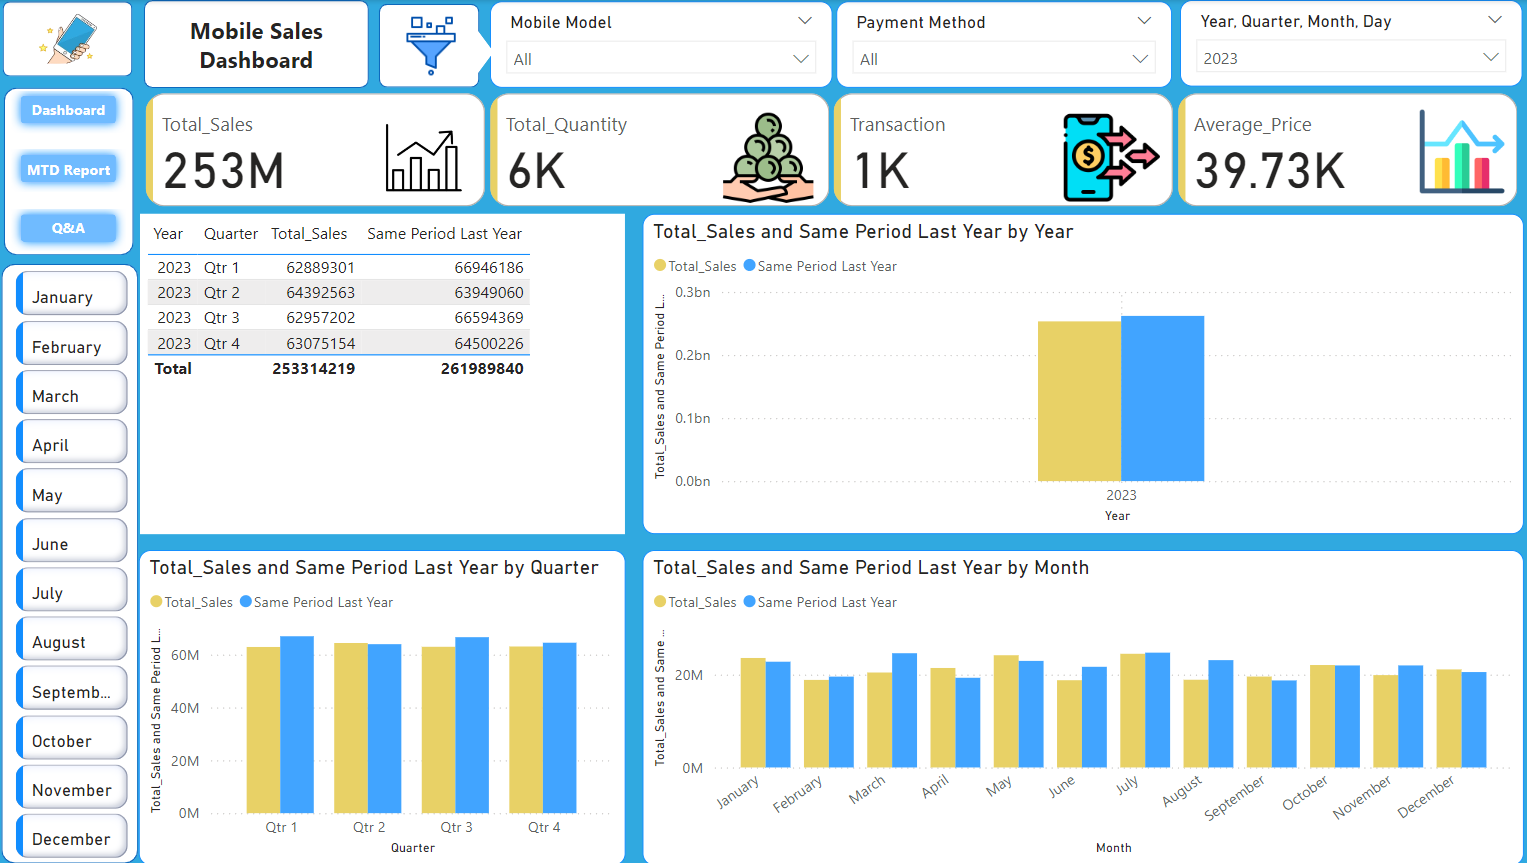

The dashboard page shown, as its layout file describes it:
{"tool":"powerbi","page":{"name":"Same Period Last Year","canvas":[1280,720],"ordinal":2},"visuals":[{"type":"shape","box":[2.3,1.2,108.1,62.8],"z":0},{"type":"image","box":[25.6,1.2,61.6,61.6],"z":1000},{"type":"shape","box":[3.5,73.3,108.1,139.5],"z":2000},{"type":"cardVisual","fields":{"Data":["Sales_Data.Total_Sales","Sales_Data.Total_Quantity","Sales_Data.Transaction","Sales_Data.Average_Price"]},"box":[116.3,73.3,1150,104.7],"z":3000},{"type":"slicer","fields":{"Values":["Sales_Data.Mobile Model"]},"box":[407,1.2,284.9,72.1],"z":4000},{"type":"slicer","fields":{"Values":["Sales_Data.Payment Method"]},"box":[695.4,1.2,279.1,72.1],"z":5000},{"type":"slicer","fields":{"Values":["Custom_Calender.Date.Variation.Date Hierarchy.Year","Custom_Calender.Date.Variation.Date Hierarchy.Quarter","Custom_Calender.Date.Variation.Date Hierarchy.Month","Custom_Calender.Date.Variation.Date Hierarchy.Day"]},"box":[981.4,0,284.9,72.1],"z":6000},{"type":"shape","box":[315.1,3.5,83.7,69.8],"z":7000},{"type":"image","box":[327.9,8.1,60.5,60.5],"z":8000},{"type":"shape","box":[380.2,23.3,30.2,40.7],"z":9000},{"type":"shape","box":[119.8,0,187.2,73.3],"z":10000},{"type":"textbox","box":[133.7,7,158.1,60.5],"z":11000},{"type":"shape","box":[1.2,219.8,114,498.8],"z":12000},{"type":"advancedSlicerVisual","fields":{"Values":["Custom_Calender.Date.Variation.Date Hierarchy.Month"]},"box":[8.4,220,103.5,498.8],"z":13000},{"type":"tableEx","fields":{"Values":["Custom_Calender.Date.Variation.Date Hierarchy.Year","Custom_Calender.Date.Variation.Date Hierarchy.Quarter","Sales_Data.Total_Sales","Sales_Data.Same Period Last Year"]},"box":[116.3,177.9,403.5,266.3],"z":14000},{"type":"clusteredColumnChart","fields":{"Category":["Custom_Calender.Date.Variation.Date Hierarchy.Year","Custom_Calender.Date.Variation.Date Hierarchy.Quarter"],"Y":["Sales_Data.Total_Sales","Sales_Data.Same Period Last Year"]},"box":[533.7,177.9,732.6,266.3],"z":15000},{"type":"clusteredColumnChart","fields":{"Y":["Sales_Data.Total_Sales","Sales_Data.Same Period Last Year"],"Category":["Custom_Calender.Date.Variation.Date Hierarchy.Year","Custom_Calender.Date.Variation.Date Hierarchy.Month","Custom_Calender.Date.Variation.Date Hierarchy.Day"]},"box":[533.7,457,732.6,262.8],"z":16000},{"type":"clusteredColumnChart","fields":{"Category":["Custom_Calender.Date.Variation.Date Hierarchy.Year","Custom_Calender.Date.Variation.Date Hierarchy.Quarter"],"Y":["Sales_Data.Total_Sales","Sales_Data.Same Period Last Year"]},"box":[115.1,457,404.7,262.8],"z":17000},{"type":"pageNavigator","box":[9.3,72.1,95.3,138.4],"z":18000}]}

Visuals, with their boxes in screenshot pixels (x1, y1, x2, y2), scaled from the page's 1280x720 canvas onto the 1527x863 screenshot:
shape: <box>3,1,132,77</box>
image: <box>31,1,104,75</box>
shape: <box>4,88,133,255</box>
cardVisual - Sales_Data.Total_Sales x Sales_Data.Total_Quantity: <box>139,88,1511,213</box>
slicer - Sales_Data.Mobile Model: <box>486,1,825,88</box>
slicer - Sales_Data.Payment Method: <box>830,1,1163,88</box>
slicer - Custom_Calender.Date.Variation.Date Hierarchy.Year x Custom_Calender.Date.Variation.Date Hierarchy.Quarter: <box>1171,0,1511,86</box>
shape: <box>376,4,476,88</box>
image: <box>391,10,463,82</box>
shape: <box>454,28,490,77</box>
shape: <box>143,0,366,88</box>
textbox: <box>159,8,348,81</box>
shape: <box>1,263,137,861</box>
advancedSlicerVisual - Custom_Calender.Date.Variation.Date Hierarchy.Month: <box>10,264,133,862</box>
tableEx - Custom_Calender.Date.Variation.Date Hierarchy.Year x Custom_Calender.Date.Variation.Date Hierarchy.Quarter: <box>139,213,620,532</box>
clusteredColumnChart - Custom_Calender.Date.Variation.Date Hierarchy.Year x Custom_Calender.Date.Variation.Date Hierarchy.Quarter: <box>637,213,1511,532</box>
clusteredColumnChart - Sales_Data.Total_Sales x Sales_Data.Same Period Last Year: <box>637,548,1511,862</box>
clusteredColumnChart - Custom_Calender.Date.Variation.Date Hierarchy.Year x Custom_Calender.Date.Variation.Date Hierarchy.Quarter: <box>137,548,620,862</box>
pageNavigator: <box>11,86,125,252</box>
